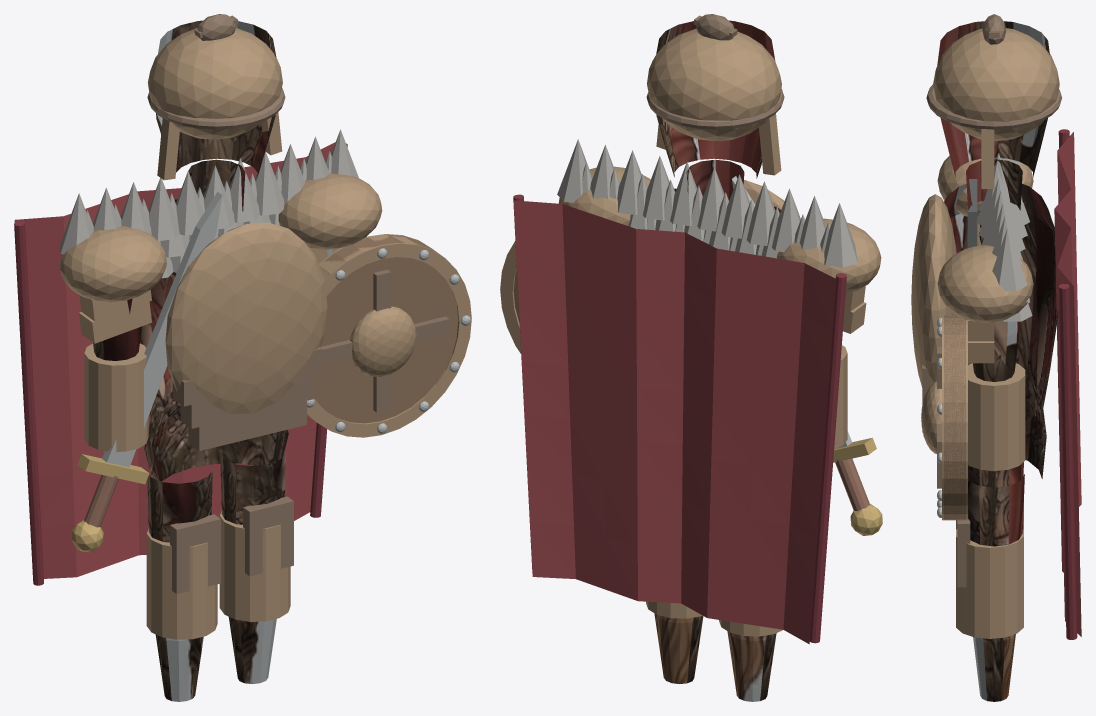
Rendered from Yggdrasil_Valkyrie_Raven_Guard.glb.
The picture shows the model from 3 angles, left to right: view 1: azimuth 30°, elevation 25°; view 2: azimuth 150°, elevation 25°; view 3: azimuth 270°, elevation 25°; orthographic projection.
Visible parts, largest first — view 1: Valkyrie_Cape, Valkyrie_Breastplate, Valkyrie_ShieldWood, Valkyrie_Helmet, Valkyrie_Shoulder_L, Valkyrie_ShieldRim, Valkyrie_Shoulder_R, Valkyrie_Bracer_-1, Valkyrie_Greave_-1, Valkyrie_Greave_1, Pelvis, Valkyrie_CapeEdge_L (+35 smaller); view 2: Valkyrie_Cape, Valkyrie_Helmet, Valkyrie_CapeEdge_L, Head, Shin_L, Shin_R, Valkyrie_Shoulder_L, Valkyrie_FurTuft_00, Valkyrie_HelmetBand, Valkyrie_ShieldRim, Valkyrie_Shoulder_R, Neck (+18 smaller); view 3: Valkyrie_Helmet, Torso, Valkyrie_Cape, Valkyrie_Greave_1, Valkyrie_Bracer_1, Valkyrie_Breastplate, Valkyrie_Shoulder_R, Valkyrie_ShieldWood, Valkyrie_CapeEdge_R, Head, Thigh_R, Valkyrie_ShieldRim (+22 smaller).
Boxes of the visible parts, x1,y1,x2,y2 form: Valkyrie_Cape: (14, 142, 335, 578); Valkyrie_Breastplate: (165, 222, 327, 413); Valkyrie_ShieldWood: (307, 234, 458, 423); Valkyrie_Helmet: (147, 27, 282, 139); Valkyrie_Shoulder_L: (59, 226, 166, 302); Valkyrie_ShieldRim: (307, 234, 471, 437); Valkyrie_Shoulder_R: (278, 173, 382, 249); Valkyrie_Bracer_-1: (84, 343, 148, 451); Valkyrie_Greave_-1: (146, 529, 217, 639); Valkyrie_Greave_1: (219, 511, 290, 621); Pelvis: (144, 394, 288, 481); Valkyrie_CapeEdge_L: (14, 221, 43, 585); Valkyrie_Cape: (513, 200, 836, 644); Valkyrie_Helmet: (647, 29, 781, 140); Valkyrie_CapeEdge_L: (809, 273, 846, 643); Head: (656, 20, 775, 178); Shin_L: (727, 631, 776, 701); Shin_R: (654, 613, 703, 683); Valkyrie_Shoulder_L: (777, 218, 881, 293); Valkyrie_FurTuft_00: (824, 203, 857, 267); Valkyrie_HelmetBand: (646, 88, 784, 129); Valkyrie_ShieldRim: (500, 241, 521, 353); Valkyrie_Shoulder_R: (558, 166, 650, 225); Neck: (686, 159, 744, 200); Valkyrie_Helmet: (933, 28, 1059, 141); Torso: (944, 183, 1058, 416); Valkyrie_Cape: (1054, 132, 1081, 636); Valkyrie_Greave_1: (956, 529, 1023, 638); Valkyrie_Bracer_1: (968, 363, 1025, 470); Valkyrie_Breastplate: (911, 194, 956, 387); Valkyrie_Shoulder_R: (937, 245, 1033, 322); Valkyrie_ShieldWood: (944, 315, 965, 520); Valkyrie_CapeEdge_R: (1058, 284, 1077, 639); Head: (937, 21, 1049, 177); Thigh_R: (968, 474, 1024, 546); Valkyrie_ShieldRim: (942, 315, 967, 520).
Size of the model in its own units: 2.05 by 3.34 by 0.78.
10 materials, 1 textured.
